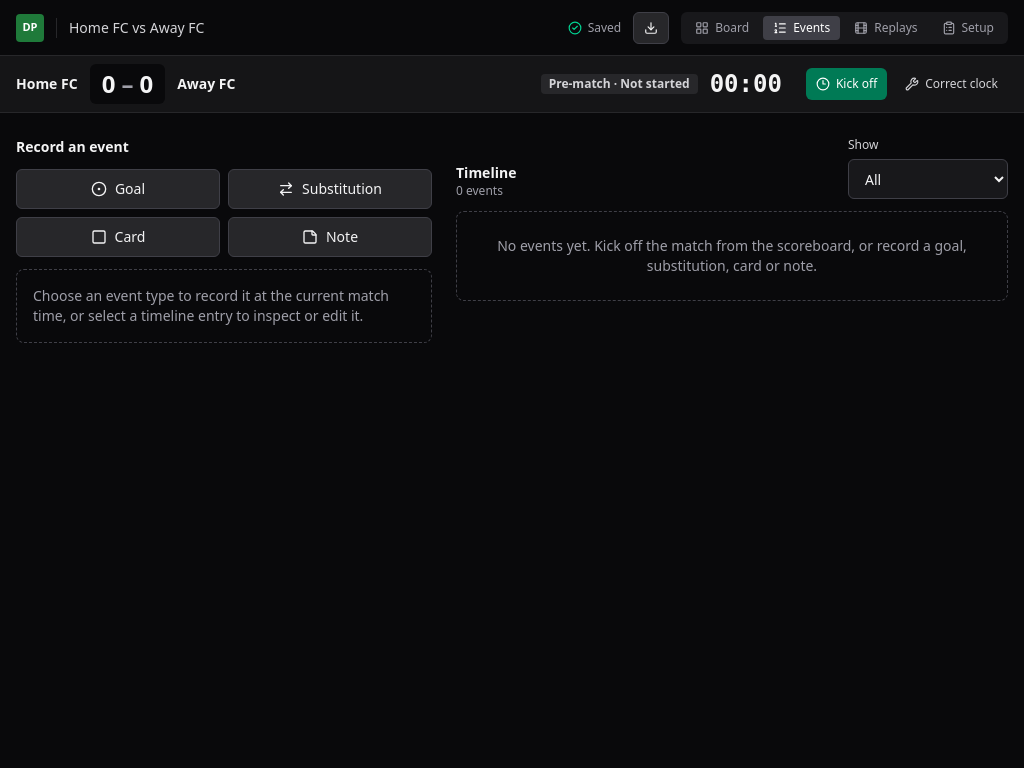
scoreboard and clock › moves through the periods, records markers and shows stoppage time
Click the button "Kick off": (847, 84) [806,68,887,100]
Wait 2833000 ms
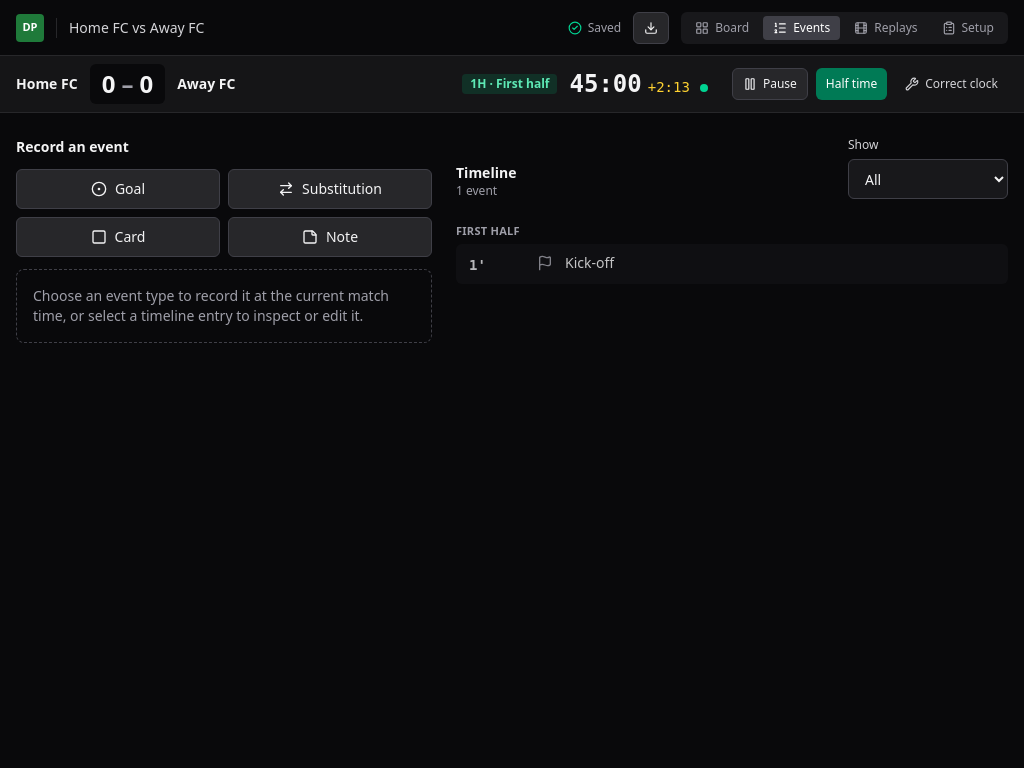
Expected: the element showing "45:00 +2:13" is shown, [570,68,708,100]
Click the button "Half time": (852, 84) [816,68,887,100]
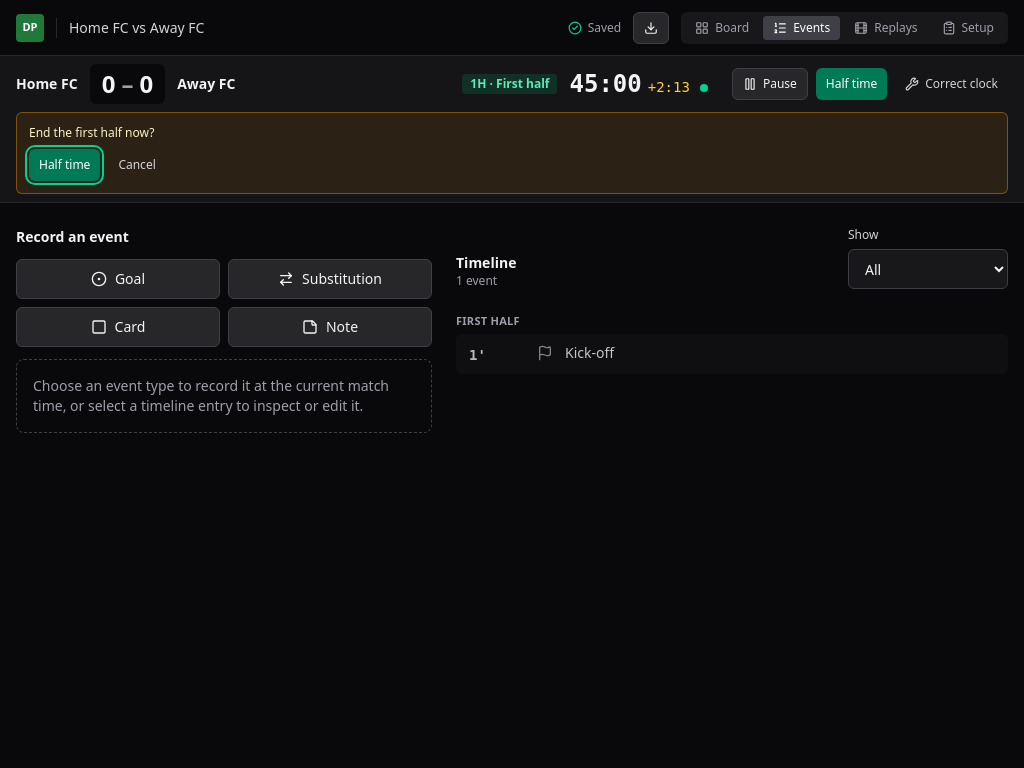
Click the button "Half time" below "End the first half now?": (65, 165) [29,149,100,181]
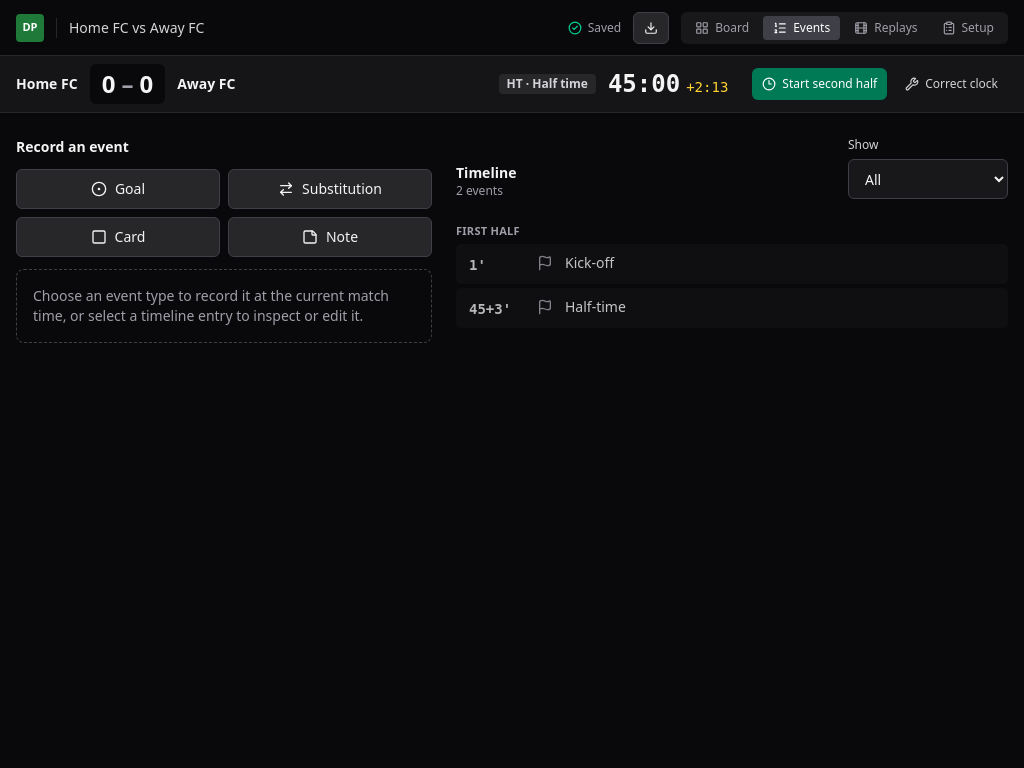
Expected: the text "HT · Half time" is shown, [498,74,596,94]
Expected: the button "Pause" is gone
Click the button "Start second half": (820, 84) [752,68,887,100]
Wait 600000 ms
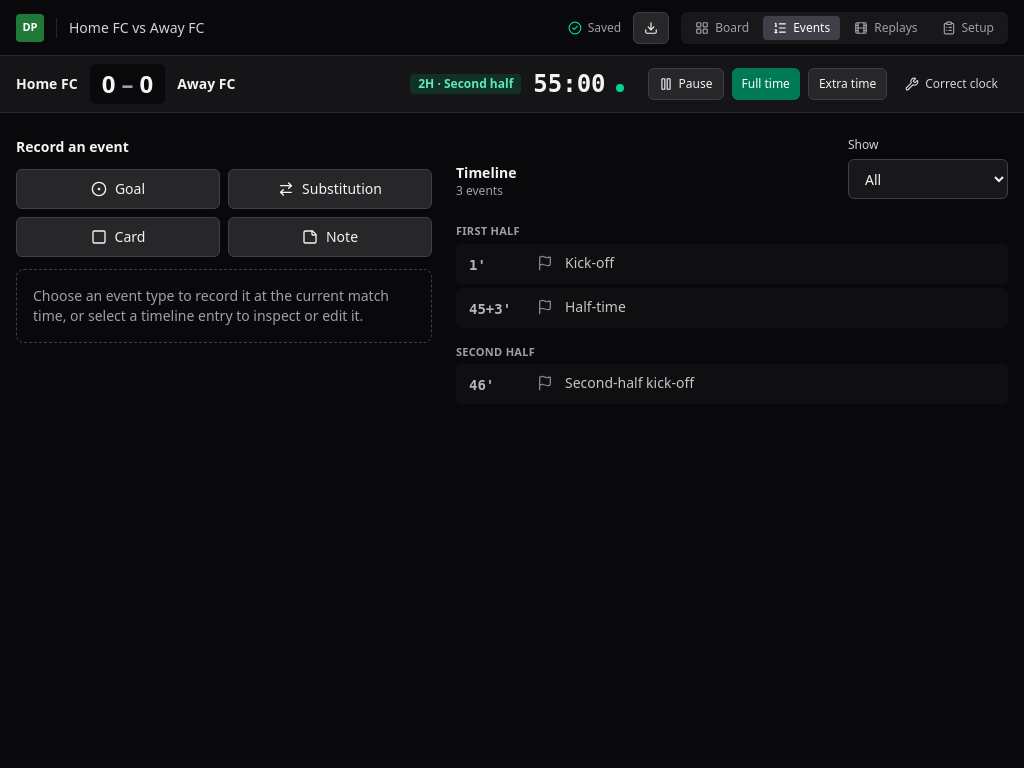
Expected: the element showing "55:00" is shown, [533,68,624,100]
Click the button "Full time": (766, 84) [732,68,800,100]
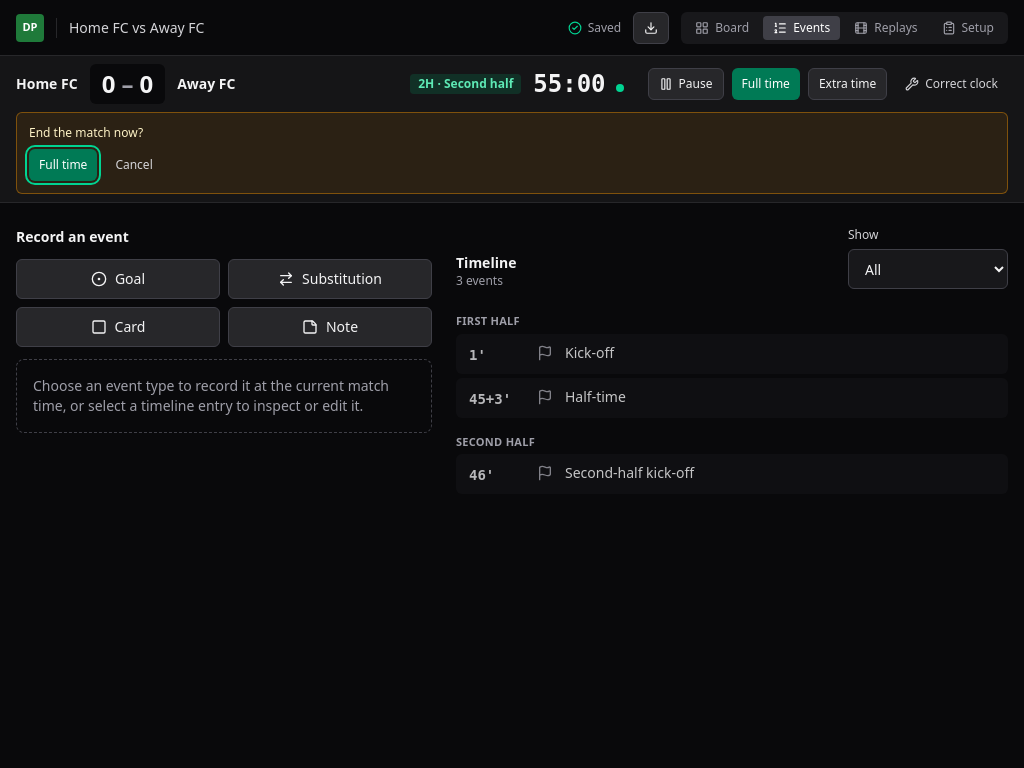
Click the button "Full time" below "End the match now?": (63, 165) [29,149,97,181]
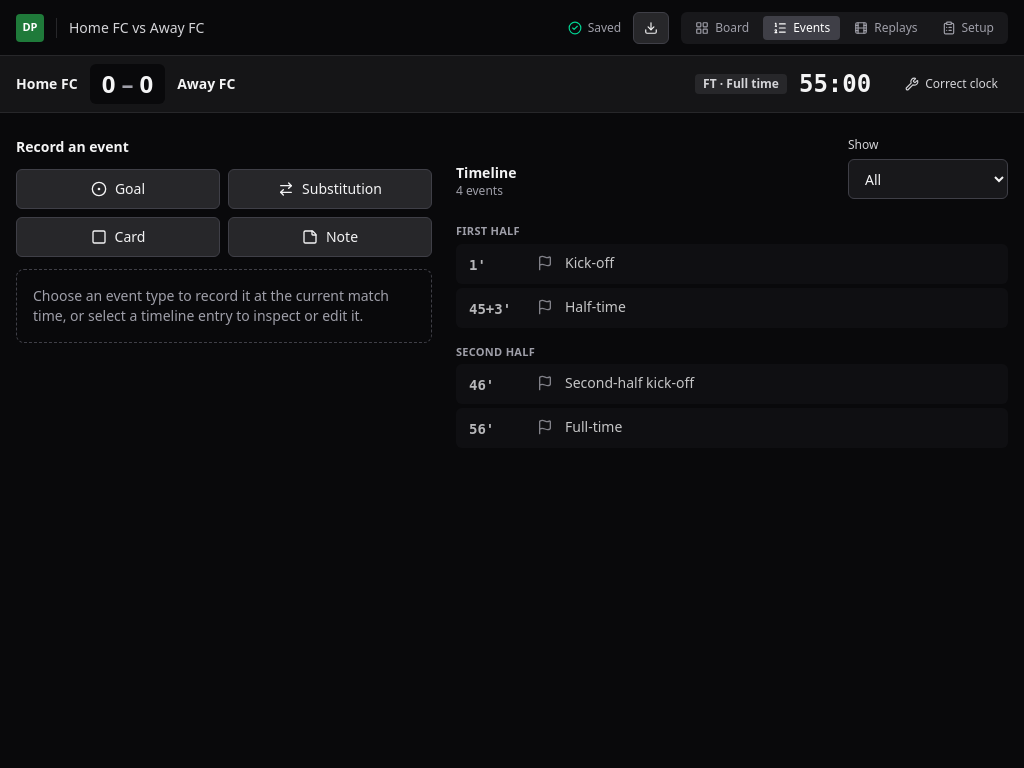
Expected: the text "FT · Full time" is shown, [695,74,787,94]
